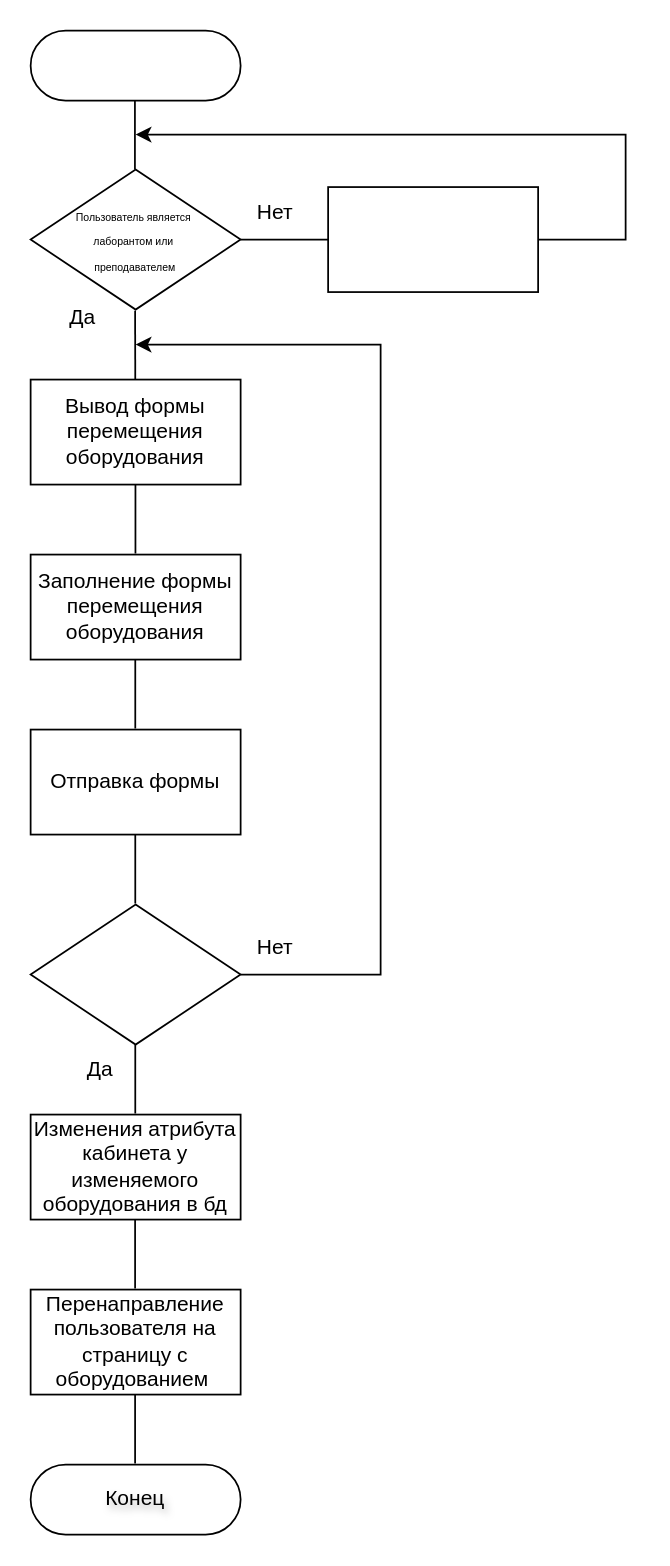
Some shapes in this 670 by 1566 pixel diagram are drawn without their labels. The shapes that lost their labels are listed below. From the top down, each one's centre as x and y in pixels, then its label:
(135,65): Начало
(432,238): Отображение ошибки доступа
(135,974): Форма валидна?
